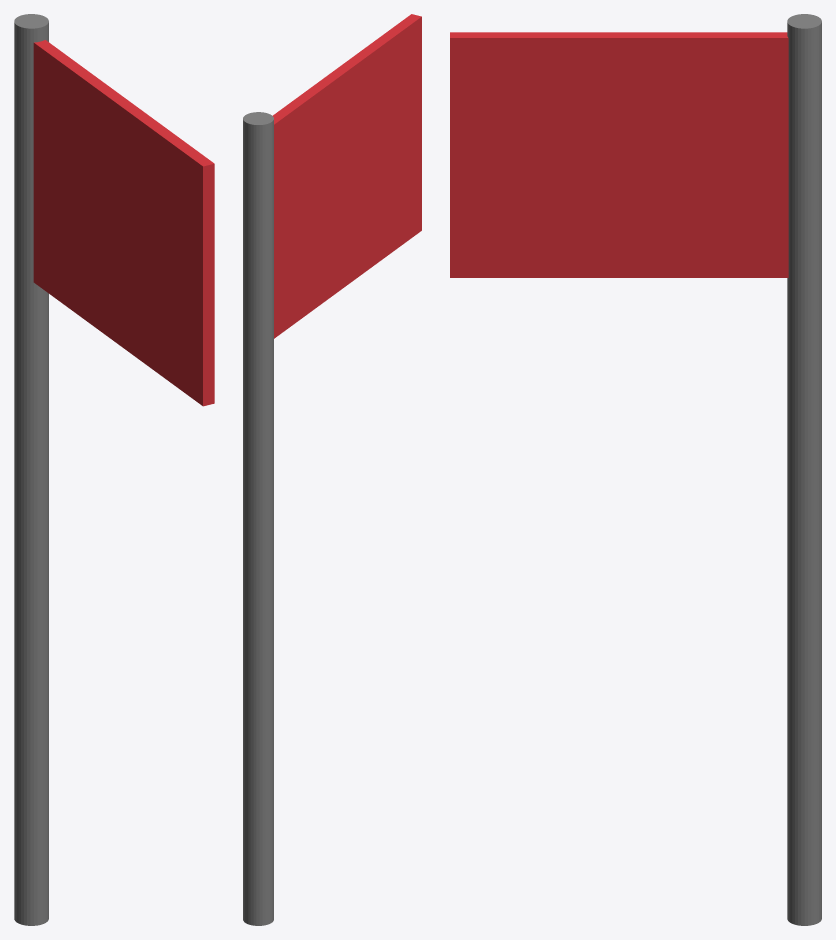
The picture shows the model from 3 angles, left to right: view 1: azimuth 30°, elevation 25°; view 2: azimuth 150°, elevation 25°; view 3: azimuth 270°, elevation 25°; orthographic projection. The views are drawn at different scales.
Parts seen in each view (by area): view 1: Cylinder; view 2: Cylinder; view 3: Cylinder.
Boxes of the visible parts, box(x1,y1,x2,y2) form: Cylinder: box(14, 14, 214, 925); Cylinder: box(243, 14, 421, 925); Cylinder: box(450, 14, 821, 925).
Size of the model in its own units: 10.71 by 306 by 115.
